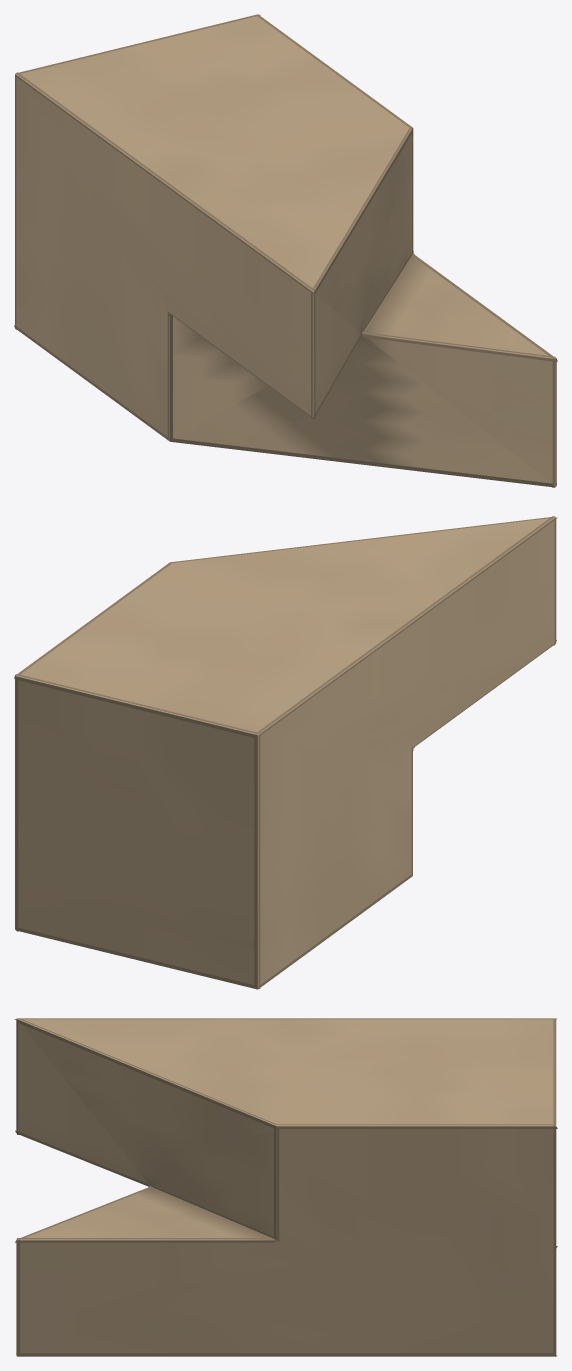
3 renders of one model, top to bottom at view 1: azimuth 30°, elevation 25°; view 2: azimuth 150°, elevation 25°; view 3: azimuth 270°, elevation 25°, orthographic. The views are drawn at different scales.
Visible parts, largest first — view 1: part-b; view 2: part-b; view 3: part-b.
Part boxes in pixels (x1,y1,x2,y2): part-b: [14, 14, 557, 487]; part-b: [14, 516, 557, 989]; part-b: [14, 1018, 557, 1356].
Size of the model in its own units: 0.1218 by 0.1212 by 0.2575.
